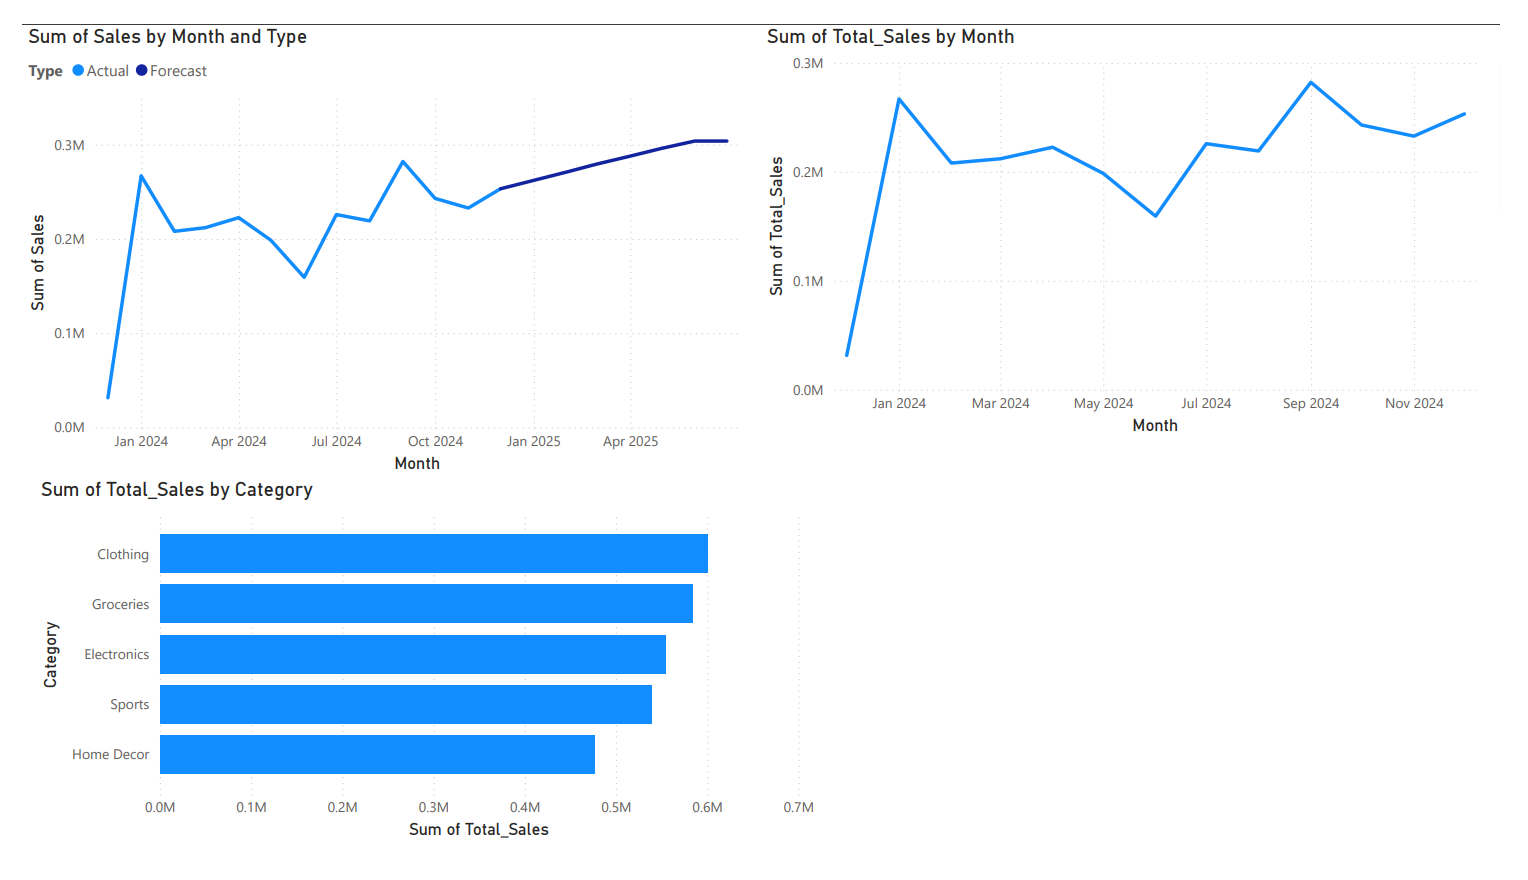

This screenshot's page, from the dashboard's own definition file:
{"tool":"powerbi","page":{"name":"Page 1","canvas":[1280,720],"ordinal":0},"visuals":[{"type":"lineChart","fields":{"Category":["combined_sales.Month"],"Y":["Sum(combined_sales.Sales)"],"Series":["combined_sales.Type"]},"box":[0,0,640,392.3],"z":0},{"type":"barChart","fields":{"Category":["category_revenue.Category"],"Y":["Sum(category_revenue.Total_Sales)"]},"box":[11.3,392.3,679.5,317.7],"z":1},{"type":"lineChart","fields":{"Category":["monthly_sales.Month"],"Y":["Sum(monthly_sales.Total_Sales)"]},"box":[640,0,640,359.5],"z":2}]}

Visuals, with their boxes in screenshot pixels (x1, y1, x2, y2), scaled from the page's 1280x720 canvas onto the 1528x880 screenshot:
lineChart - combined_sales.Month x Sum(combined_sales.Sales): left=0, top=0, right=764, bottom=479
barChart - category_revenue.Category x Sum(category_revenue.Total_Sales): left=13, top=479, right=825, bottom=868
lineChart - monthly_sales.Month x Sum(monthly_sales.Total_Sales): left=764, top=0, right=1527, bottom=439
